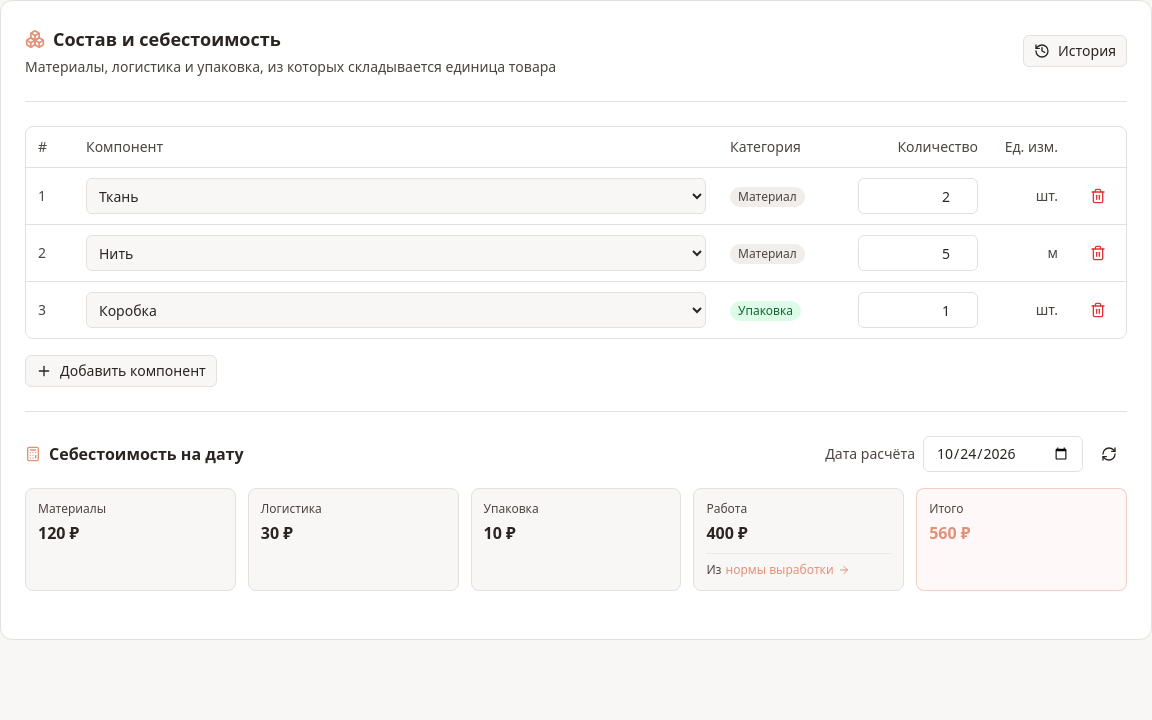
Test case: ProductBomEditor — панель несохранённых изменений › «Отменить правки» возвращает строки к сохранённому составу и снимает панель
Replace the text in the 1st number field with "7" at (918, 196), box [858, 178, 978, 214]
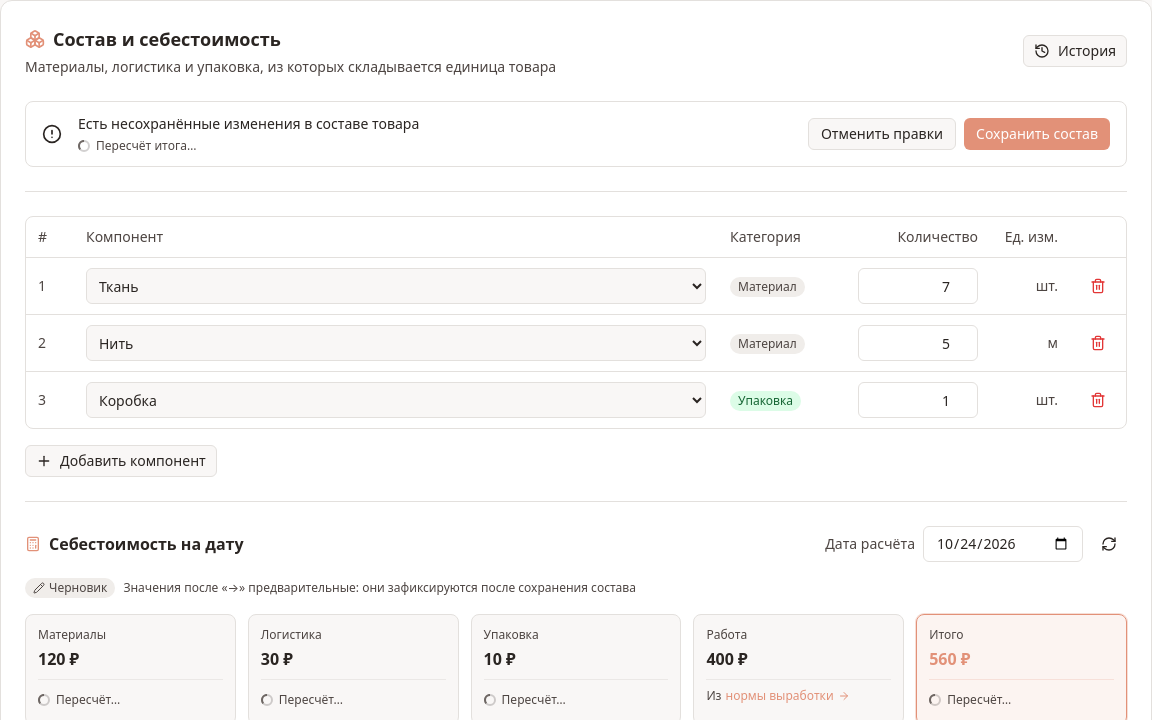
Click the button "Отменить правки" at (882, 134), box [808, 118, 956, 150]
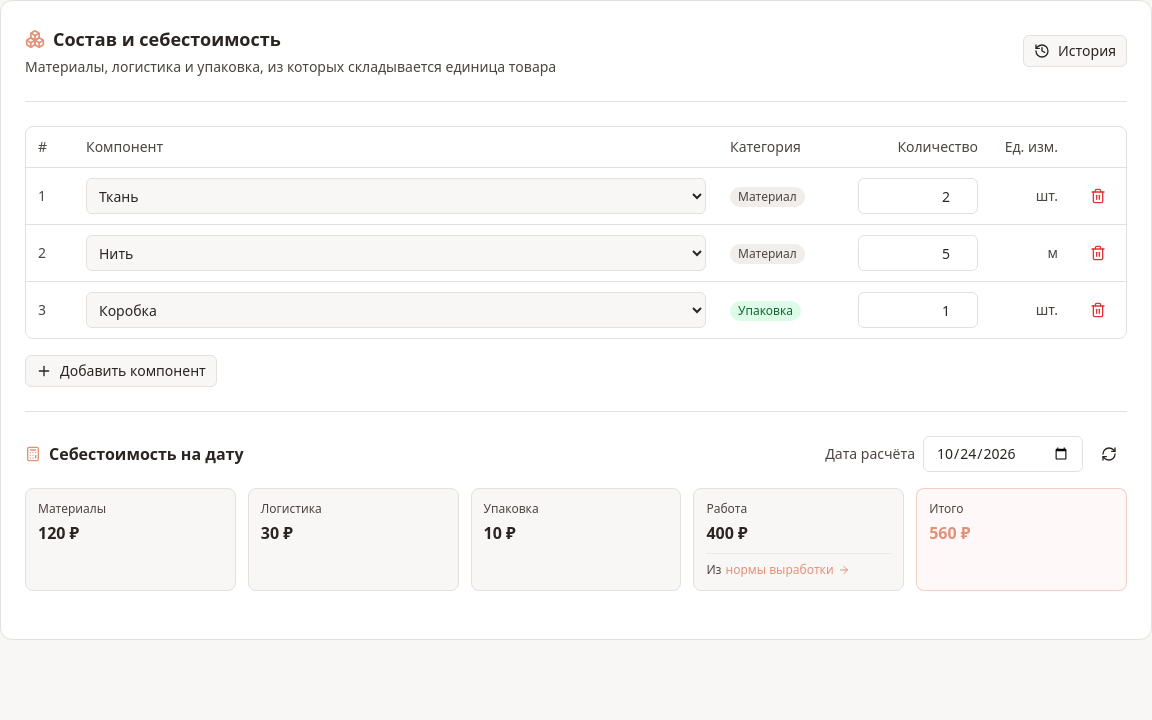
Result: the text "Есть несохранённые изменения в составе товара" is gone
